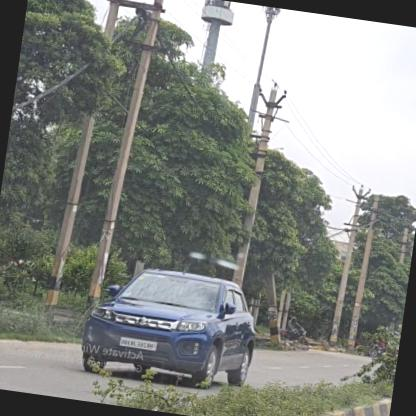car: (78, 260, 262, 395)
motorcycle: (276, 314, 312, 347)
